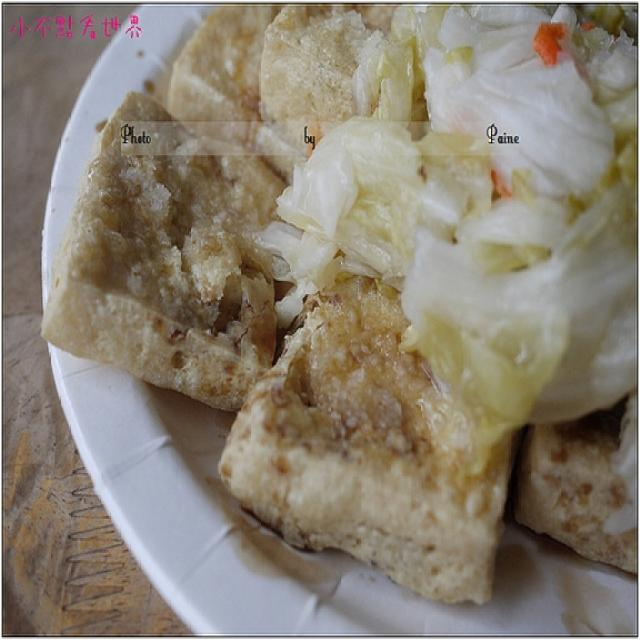豆腐料理: (44, 7, 634, 621)
